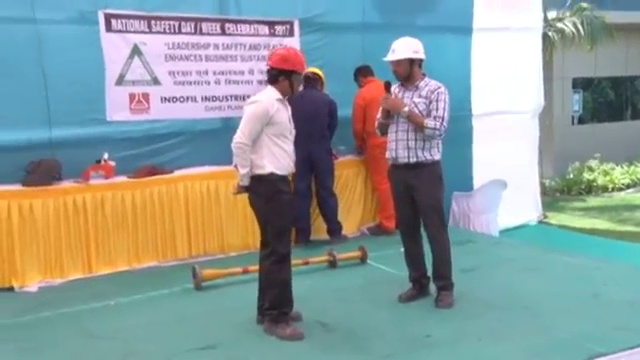helmet: (380, 34, 428, 62), (265, 44, 307, 75), (302, 64, 328, 87)
helmet_off: (351, 62, 377, 90)
helmet_on: (379, 34, 430, 90), (263, 43, 307, 99), (302, 63, 328, 96)
person: (232, 44, 307, 343), (375, 35, 456, 310), (292, 62, 350, 244), (350, 62, 400, 236)
